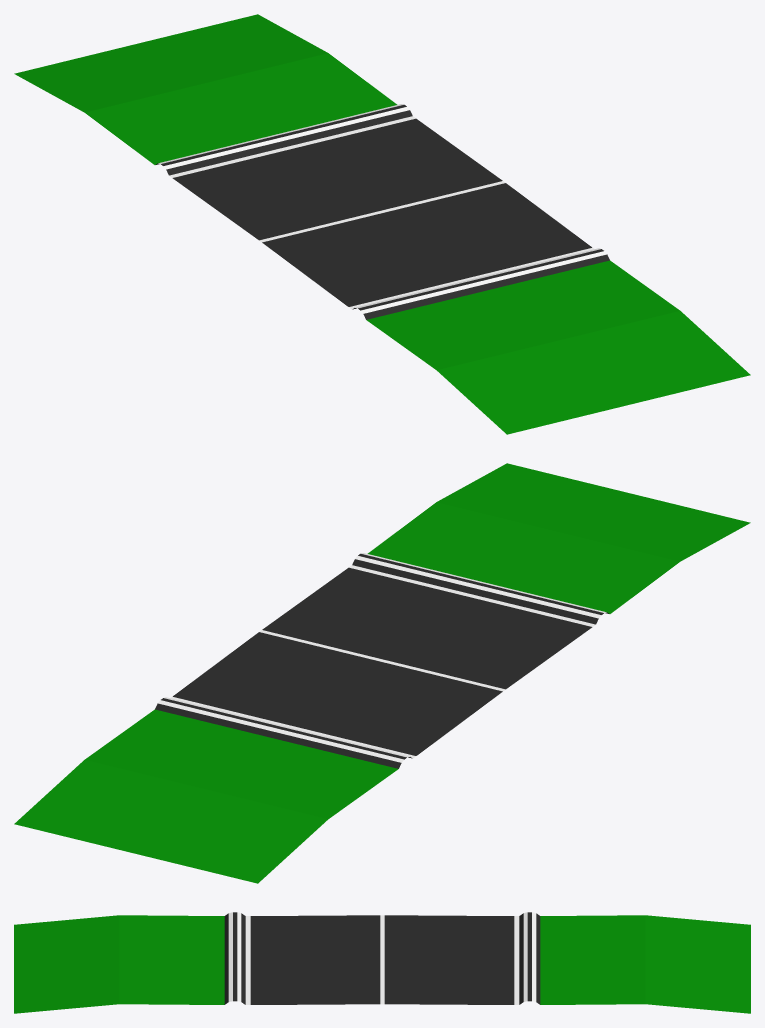
The model's file is Spa.Height.glb.
The picture shows the model from 3 angles, top to bottom: view 1: azimuth 30°, elevation 25°; view 2: azimuth 150°, elevation 25°; view 3: azimuth 270°, elevation 25°; orthographic projection. The views are drawn at different scales.
Parts seen in each view (by area): view 1: Track; view 2: Track; view 3: Track.
Part boxes in pixels (x1,y1,x2,y2): Track: [14, 14, 750, 434]; Track: [14, 463, 750, 883]; Track: [14, 912, 750, 1013].
Size of the model in its own units: 10 by 0.6607 by 35.
